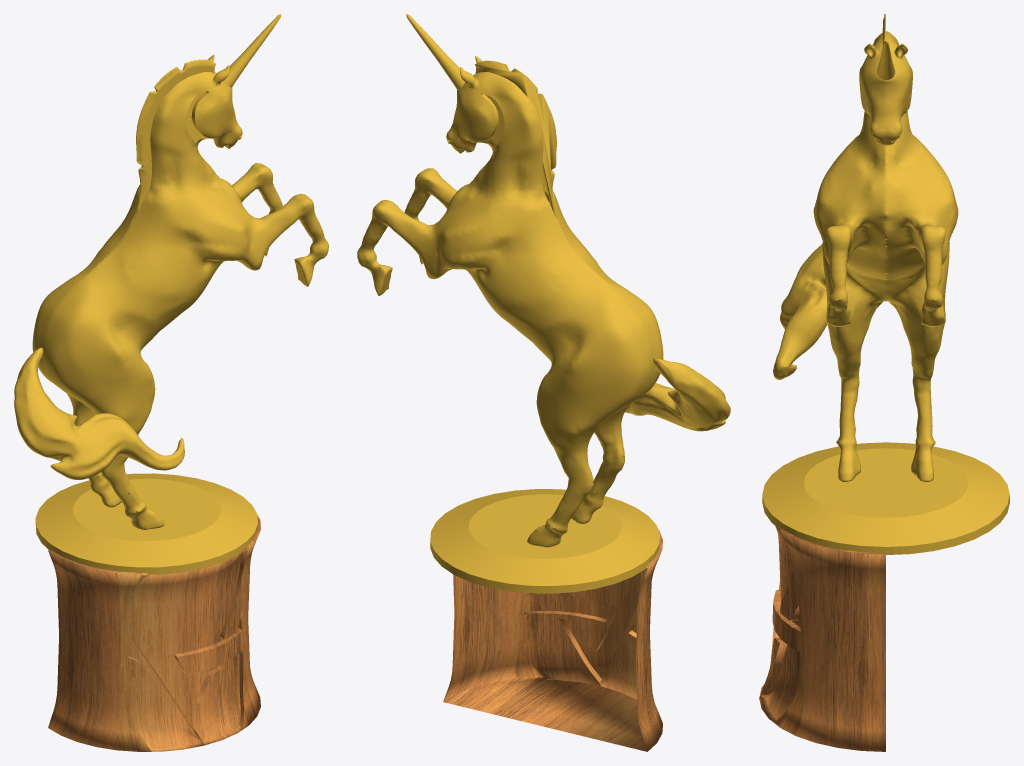
Rendered from armateriales...glb.
3 renders of one model, left to right at view 1: azimuth 30°, elevation 25°; view 2: azimuth 150°, elevation 25°; view 3: azimuth 270°, elevation 25°, orthographic. The views are drawn at different scales.
Visible parts, largest first — view 1: CRORTADO.001, mh.002, propuiesta.001, CRORTADO.005, CRORTADO.006, CRORTADO.002; view 2: CRORTADO.001, mh.002, propuiesta.001, CRORTADO.005, CRORTADO.006, CRORTADO.002; view 3: CRORTADO.001, mh.002, propuiesta.001, CRORTADO.005, CRORTADO.002.
Part boxes in pixels (x1=…): CRORTADO.001: x1=32, y1=54, x2=328, y2=529; mh.002: x1=48, y1=515, x2=260, y2=751; propuiesta.001: x1=35, y1=473, x2=257, y2=574; CRORTADO.005: x1=14, y1=347, x2=184, y2=479; CRORTADO.006: x1=136, y1=59, x2=215, y2=212; CRORTADO.002: x1=224, y1=14, x2=281, y2=87; CRORTADO.001: x1=357, y1=56, x2=663, y2=547; mh.002: x1=443, y1=529, x2=662, y2=751; propuiesta.001: x1=430, y1=489, x2=659, y2=593; CRORTADO.005: x1=625, y1=358, x2=730, y2=431; CRORTADO.006: x1=475, y1=60, x2=556, y2=217; CRORTADO.002: x1=406, y1=14, x2=464, y2=89; CRORTADO.001: x1=813, y1=31, x2=958, y2=481; mh.002: x1=759, y1=526, x2=885, y2=751; propuiesta.001: x1=762, y1=442, x2=1009, y2=554; CRORTADO.005: x1=773, y1=244, x2=827, y2=379; CRORTADO.002: x1=877, y1=40, x2=895, y2=79.
Bounding box in the file's own units: 0.1685 × 0.3398 × 0.1058.
Materials: 3 (2 with a texture image).
